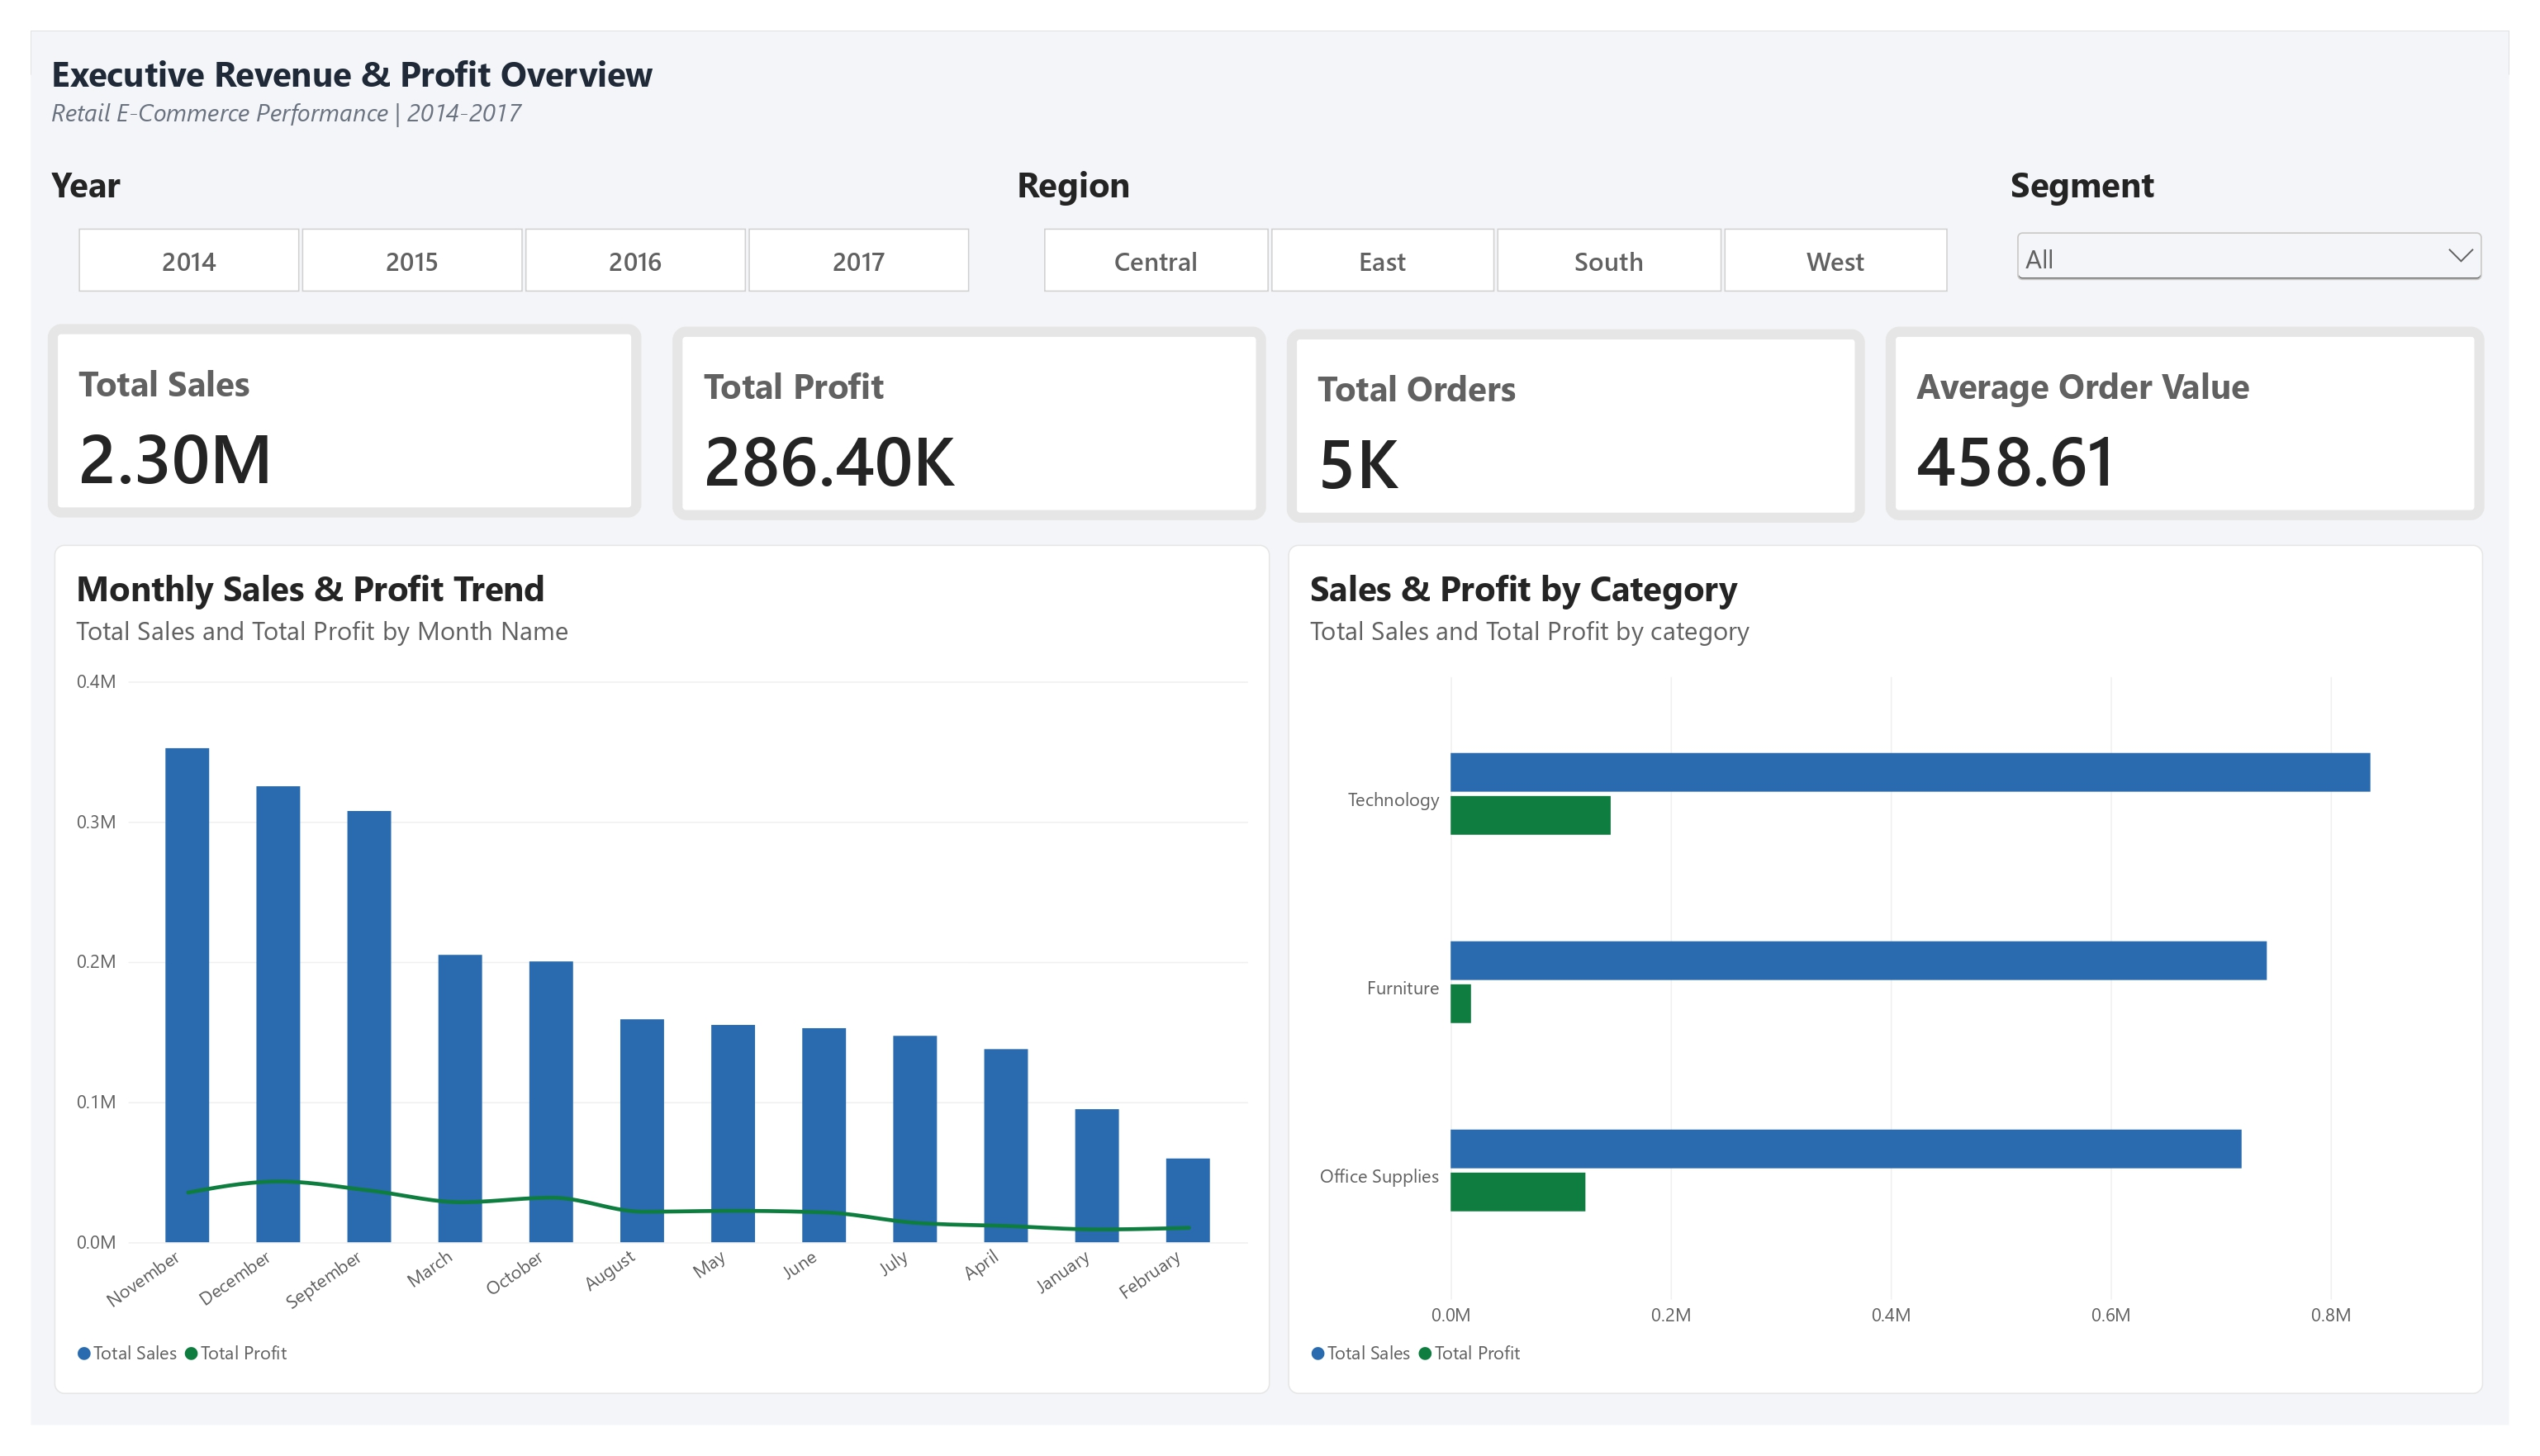

The page's visual inventory and layout, read from the dashboard file:
{"tool":"powerbi","page":{"name":"Executive Revenue & Profit Overview","canvas":[1920,1080],"ordinal":0},"visuals":[{"type":"textbox","box":[16,14,1888,70],"z":0},{"type":"slicer","title":"Year","fields":{"Values":["Dim_Calendar.Year"]},"box":[16,100,730,104],"z":1000},{"type":"slicer","title":"Region","fields":{"Values":["retail_sales.region"]},"box":[764,100,740,104],"z":2000},{"type":"slicer","title":"Segment","fields":{"Values":["retail_sales.segment"]},"box":[1534,100,370,104],"z":3000},{"type":"cardVisual","title":"Total Sales","fields":{"Data":["_Measures.Total Sales"]},"box":[12.8,227.2,460,150],"z":4000},{"type":"cardVisual","fields":{"Data":["_Measures.Total Profit"]},"box":[496.8,229.2,460,150],"z":5000},{"type":"cardVisual","fields":{"Data":["_Measures.Total Orders"]},"box":[972.8,231.2,448,150],"z":6000},{"type":"cardVisual","fields":{"Data":["_Measures.Average Order Value"]},"box":[1436.8,229.2,464,150],"z":7000},{"type":"lineClusteredColumnComboChart","title":"Monthly Sales & Profit Trend","fields":{"Category":["Dim_Calendar.Month Name"],"Y":["_Measures.Total Sales"],"Y2":["_Measures.Total Profit"]},"box":[18,398,942,658],"z":8000},{"type":"clusteredBarChart","title":"Sales & Profit by Category","fields":{"Category":["retail_sales.category"],"Y":["_Measures.Total Sales","_Measures.Total Profit"]},"box":[974,398,926,658],"z":9000}]}

Visuals, with their boxes on the page's 1920x1080 design canvas (x1, y1, x2, y2). These are canvas units, not pixel positions in the 2540x1456 screenshot, which may show the page scaled, cropped or inside an application window:
textbox: 16 14 1904 84
"Year" slicer: 16 100 746 204
"Region" slicer: 764 100 1504 204
"Segment" slicer: 1534 100 1904 204
"Total Sales" cardVisual: 13 227 473 377
cardVisual - _Measures.Total Profit: 497 229 957 379
cardVisual - _Measures.Total Orders: 973 231 1421 381
cardVisual - _Measures.Average Order Value: 1437 229 1901 379
"Monthly Sales & Profit Trend" lineClusteredColumnComboChart: 18 398 960 1056
"Sales & Profit by Category" clusteredBarChart: 974 398 1900 1056
